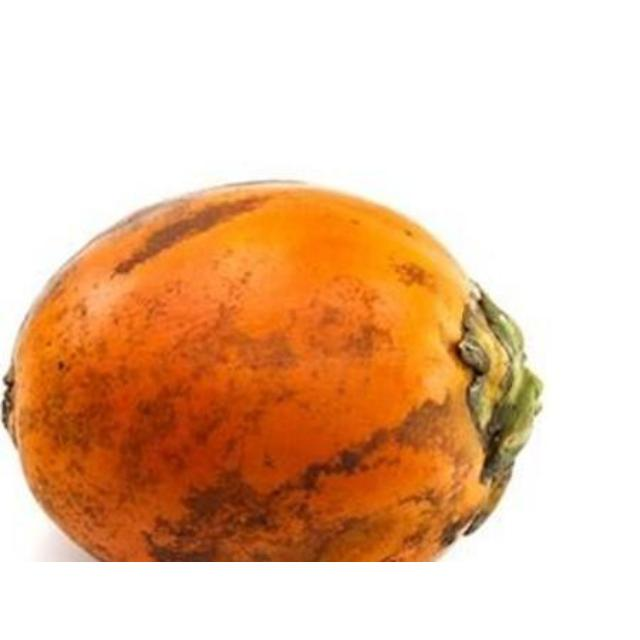good: (4, 180, 542, 560)
